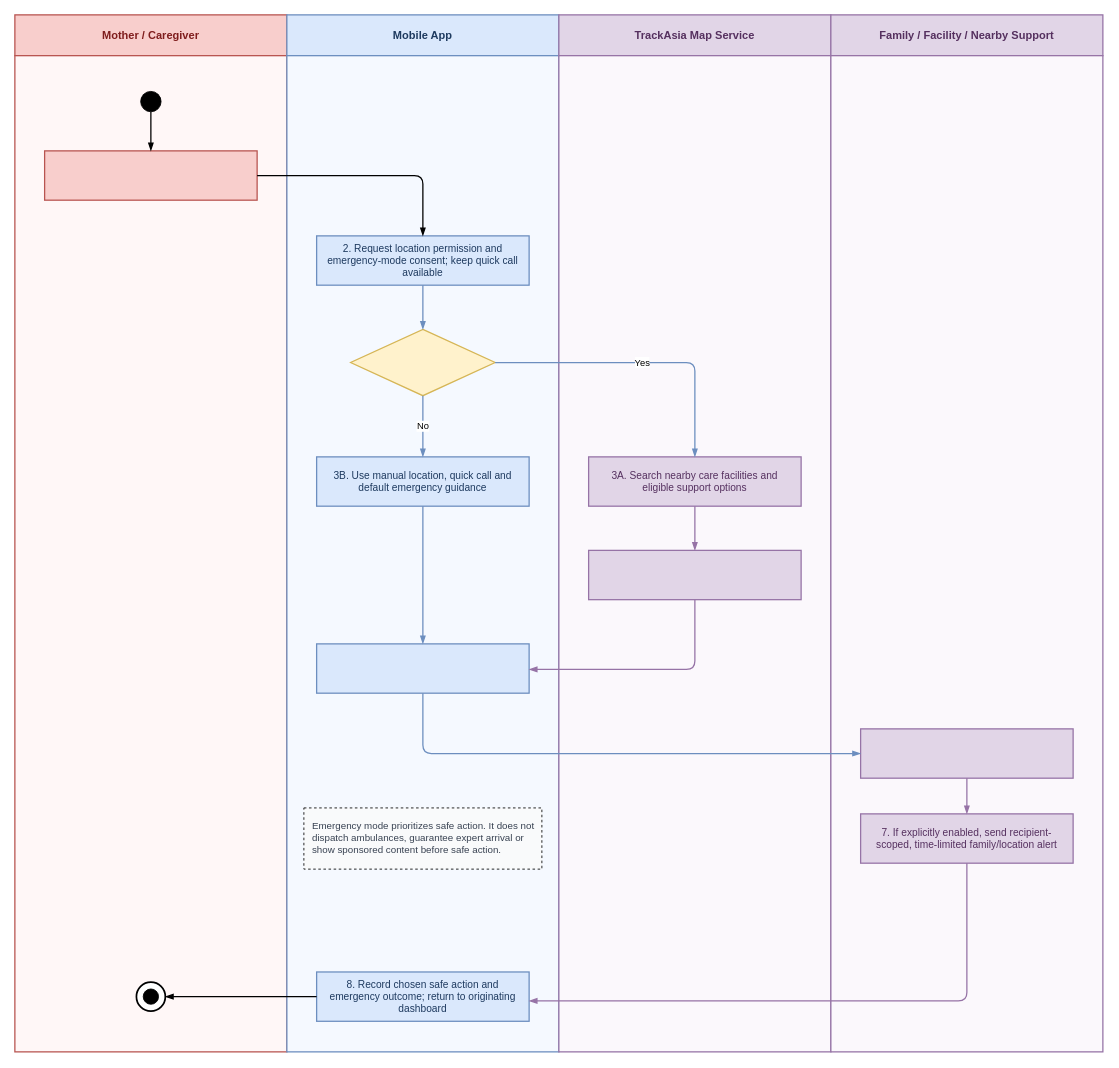
This 1119x1068 diagram has some shape labels left out. The shapes that lost their labels are listed below. From the top down, each one's centre as x and y in pixels, then its label:
the point at 150,175: 1. Open or resume emergency session from dashboard, RED triage or safety alert
the point at 422,362: Location available and consented?
the point at 694,574: 4. Return distance, route and ETA when available
the point at 422,668: 5. Display route, navigation, quick-call and prioritized safe-action options
the point at 966,753: 6. Call facility, emergency contact or consented nearby support
